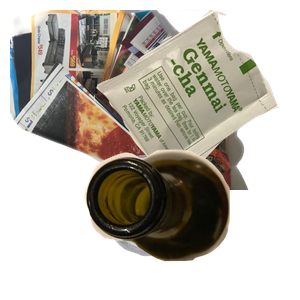glass: (82, 147, 300, 300)
paper: (10, 10, 250, 190)
plastic: (100, 152, 293, 300)
trash: (91, 10, 300, 186)
